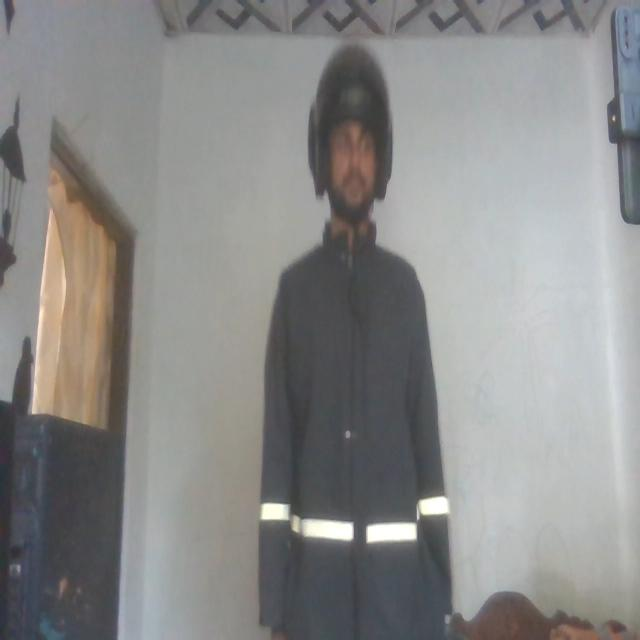Helmet_Wearer: (304, 38, 392, 250)
Jacket_Wearer: (260, 244, 454, 636)
Person: (262, 42, 452, 640)
